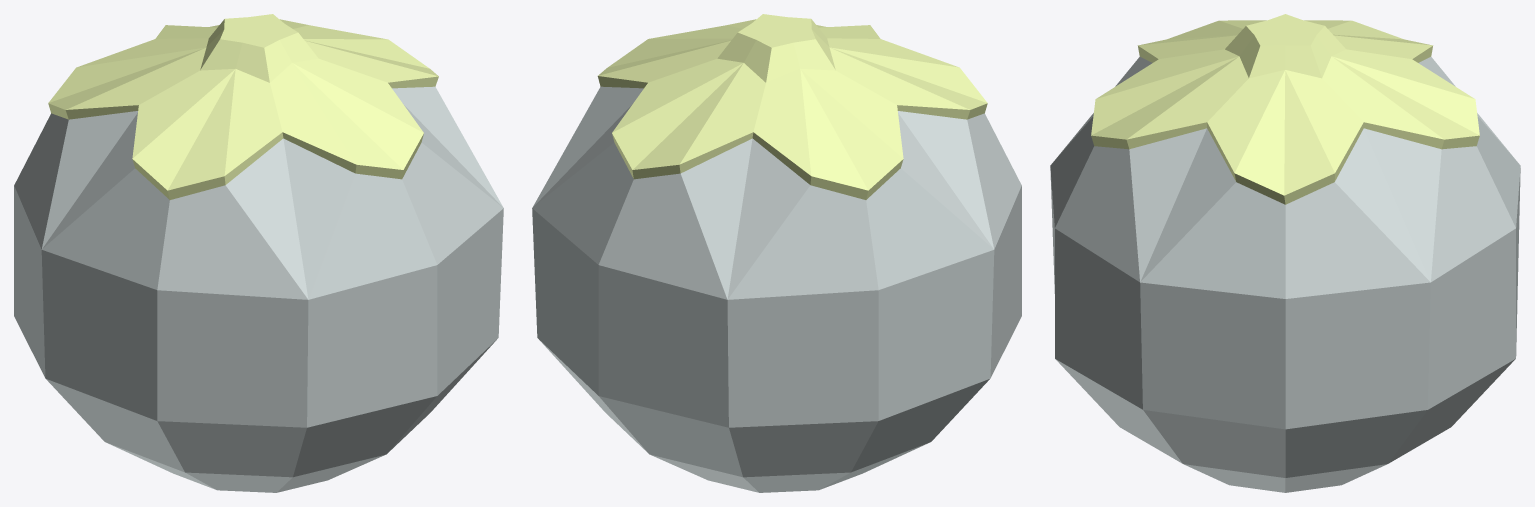
Rendered from Blue Berry.fbx.
The picture shows the model from 3 angles, left to right: view 1: azimuth 30°, elevation 25°; view 2: azimuth 150°, elevation 25°; view 3: azimuth 270°, elevation 25°; orthographic projection.
Visible parts, largest first — view 1: Berry; view 2: Berry; view 3: Berry.
Part boxes in pixels (x1,y1,x2,y2): Berry: [14, 14, 503, 492]; Berry: [532, 14, 1021, 492]; Berry: [1050, 14, 1520, 492].
Bounding box in the file's own units: 1.92 × 1.89 × 1.84.
